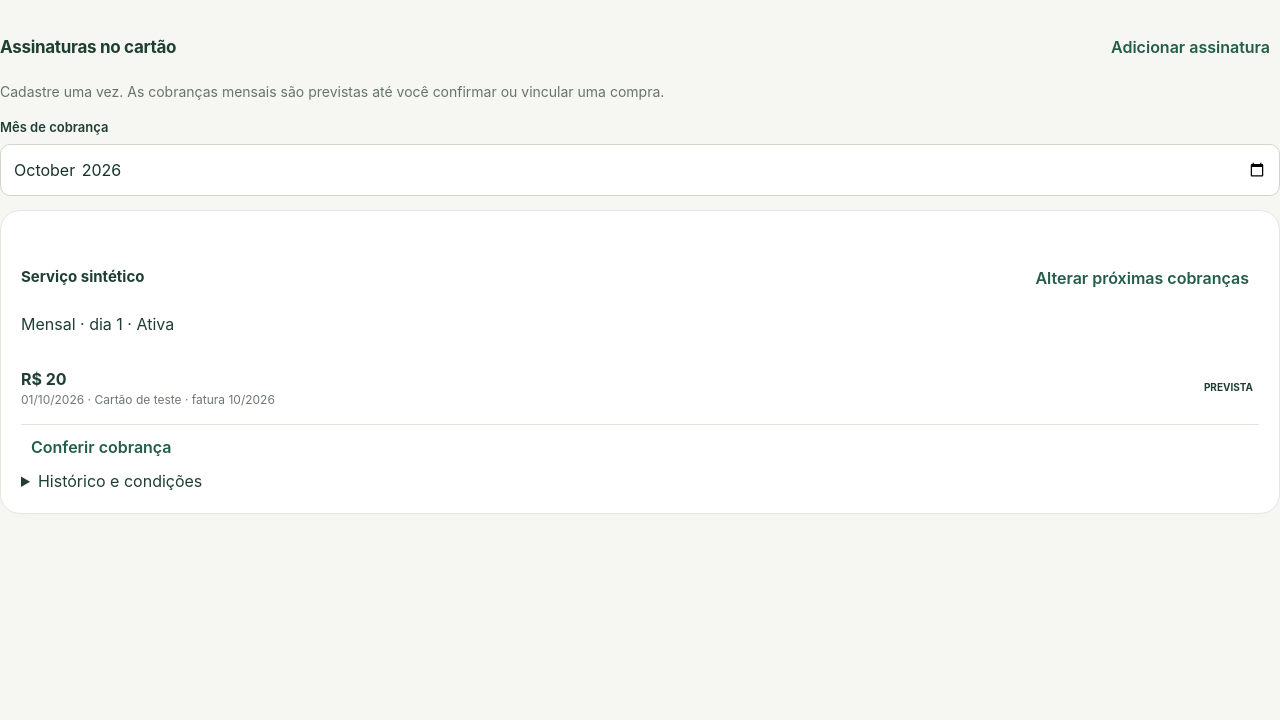
Test: linking requires a selected purchase ID and preserves the list context
Click the button "Conferir cobrança": point(101, 446) [21,424,182,468]
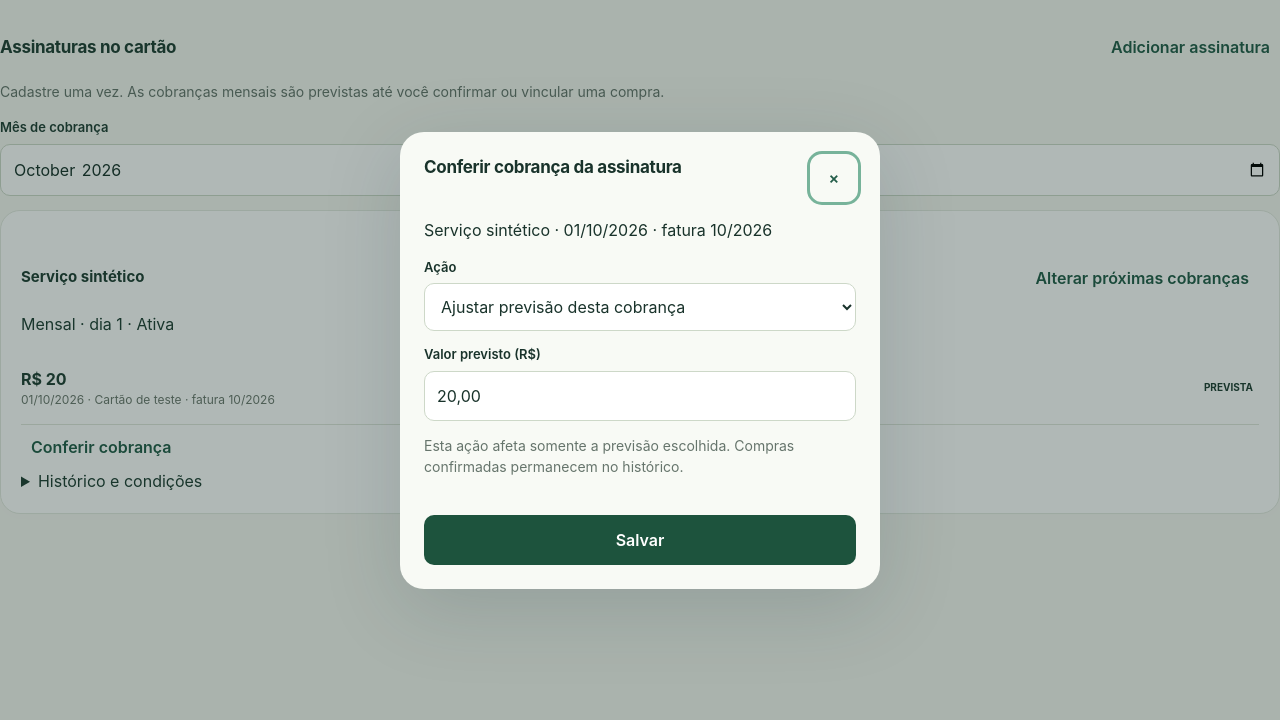
Select "Vincular compra já registrada" in the dropdown labelled "Ação": point(640, 307) [424,283,856,331]
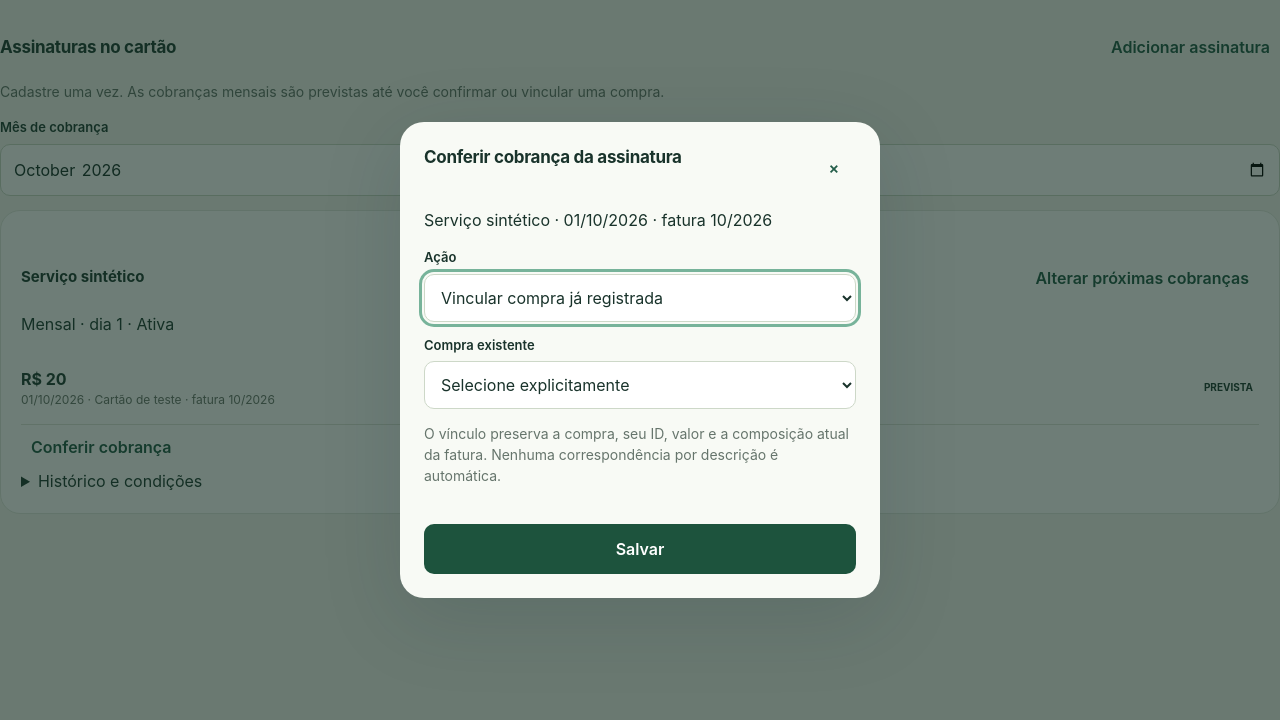
Expected: the dropdown labelled "Compra existente" shows "Selecione explicitamente"
Select "01/10/2026 · Outra descrição · 18.50 · existing" in the dropdown labelled "Compra existente": point(640, 385) [424,361,856,409]
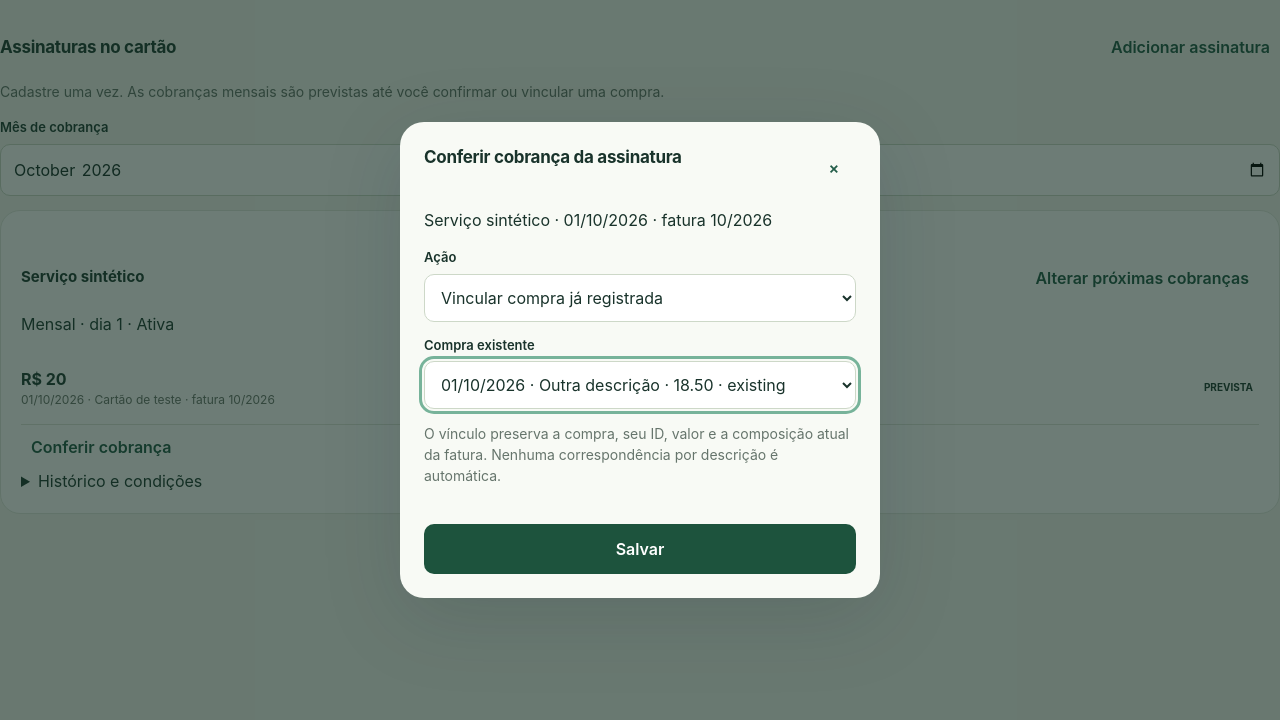
Click the button "Salvar": point(640, 549) [424,524,856,574]
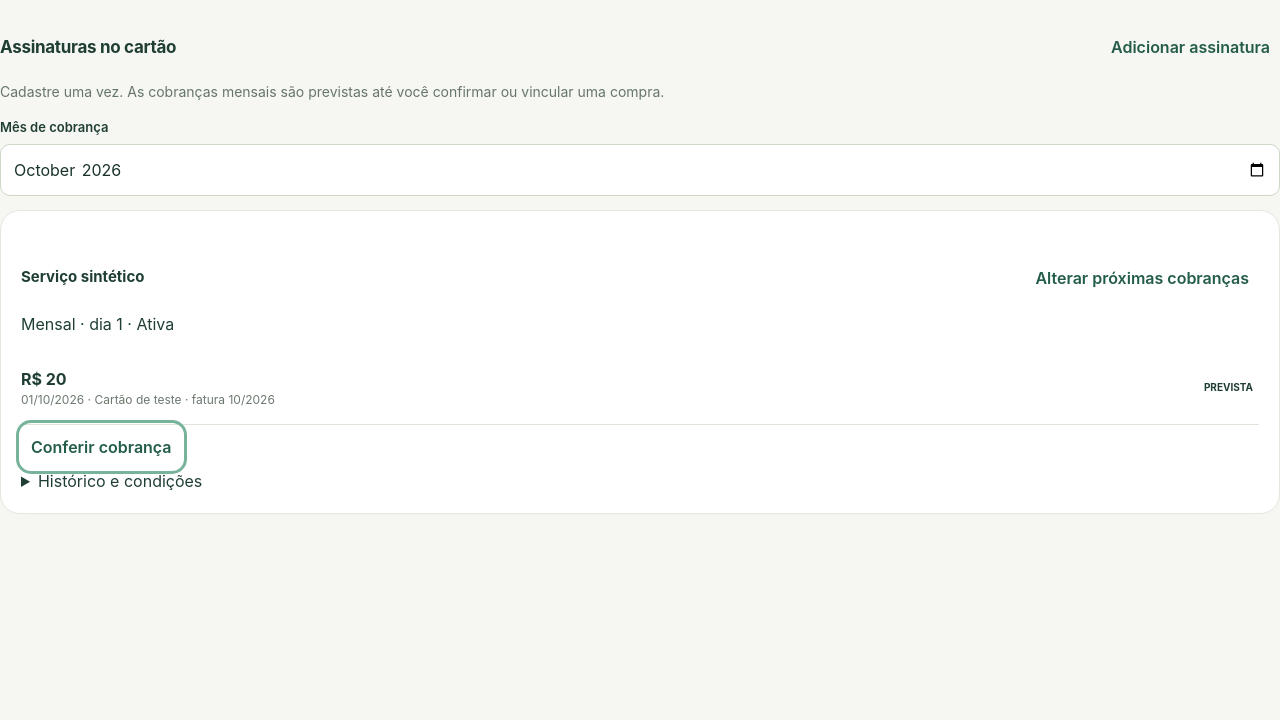
Expected: the field labelled "Mês de cobrança" is shown, [0,144,1279,196]
Expected: the dialog is gone
